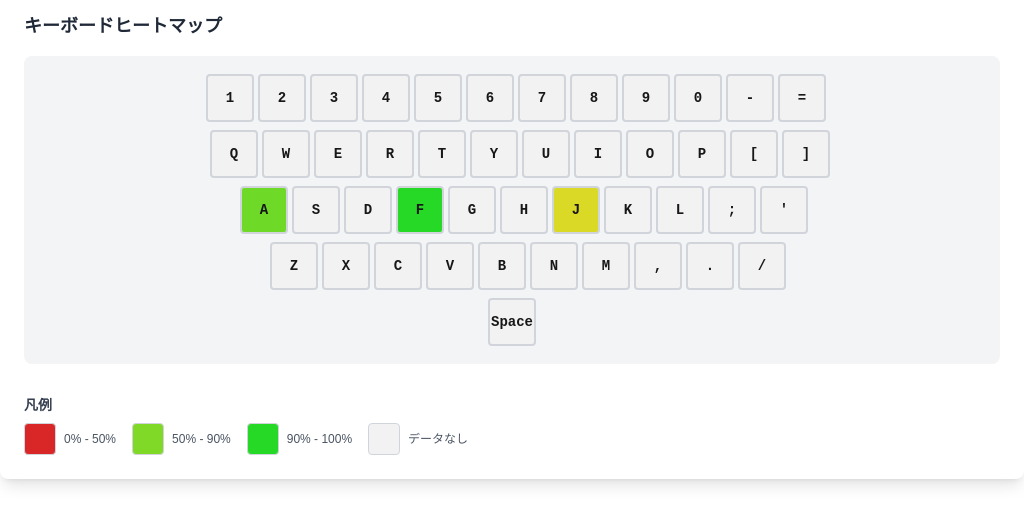
KeyboardHeatmap › should show tooltip on hover
The image size is (1024, 505).
Hover over the text "A" at (264, 210), box [240,186,288,234]
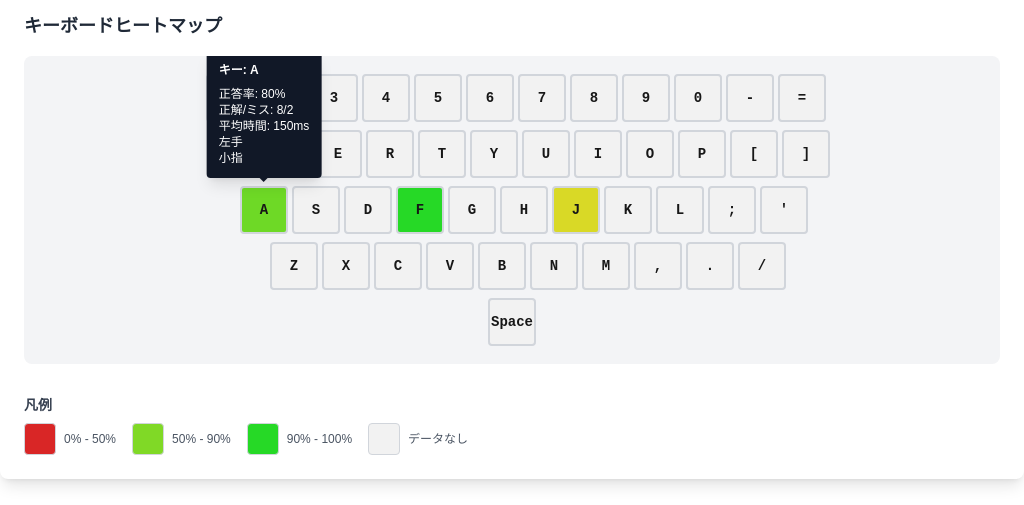
Expected: the text "正答率: 80%" is shown, [219,87,285,101]
Expected: the text "正解/ミス: 8/2" is shown, [219,103,293,117]
